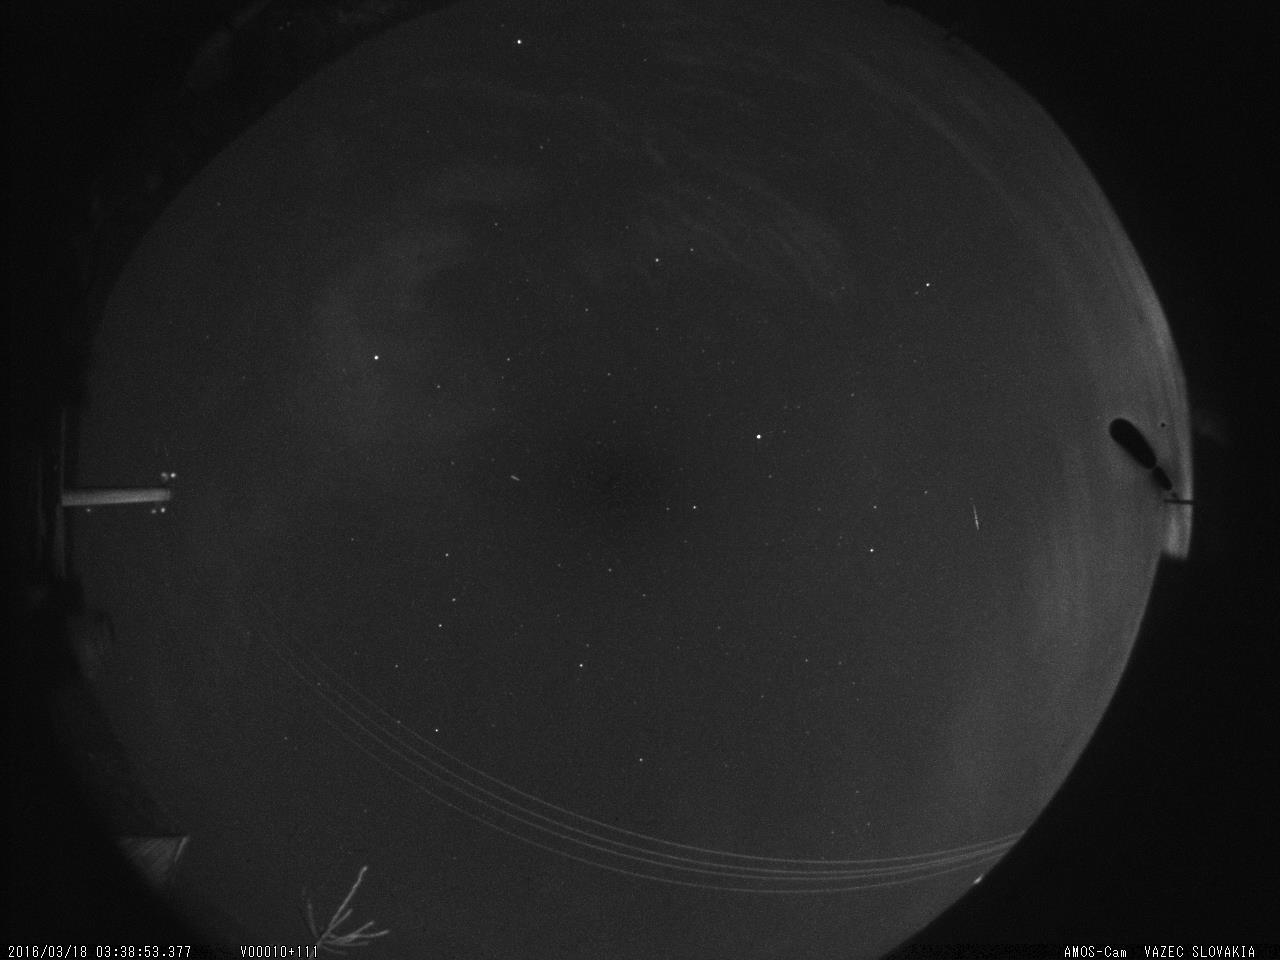meteor: (963, 497, 988, 538)
